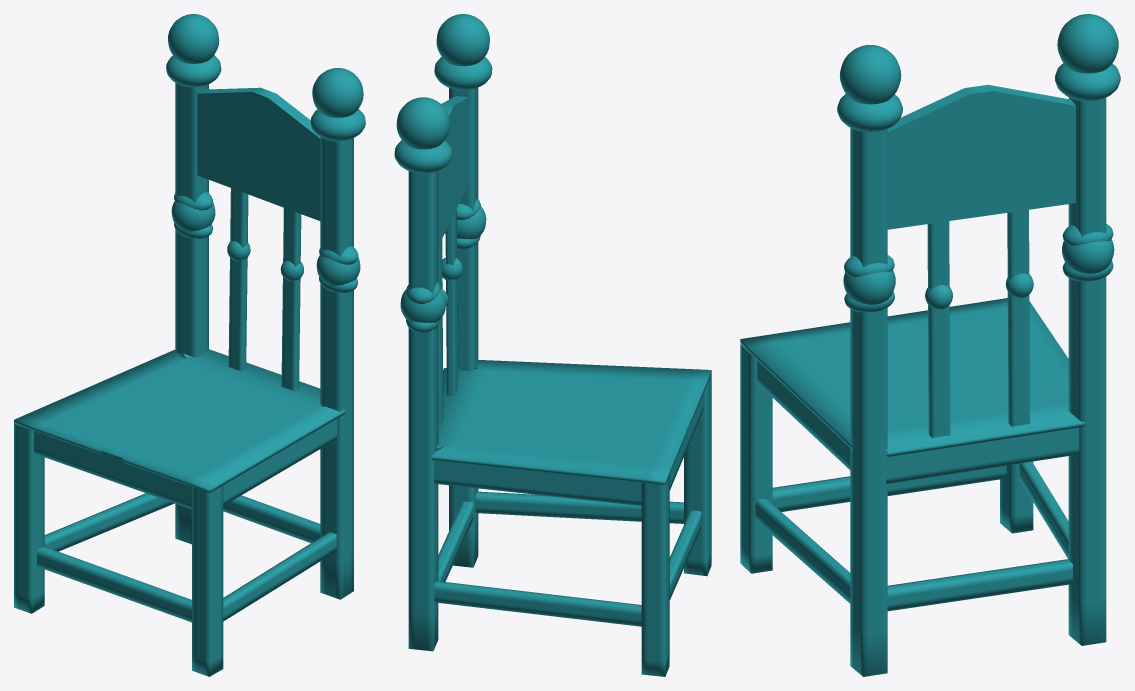
The model's file is silla2.obj.
3 renders of one model, left to right at view 1: azimuth 30°, elevation 25°; view 2: azimuth 150°, elevation 25°; view 3: azimuth 270°, elevation 25°, orthographic. The views are drawn at different scales.
Parts seen in each view (by area): view 1: polySurface927; view 2: polySurface927; view 3: polySurface927.
Part boxes in pixels (x1,y1,x2,y2): polySurface927: [14, 14, 365, 676]; polySurface927: [394, 14, 711, 676]; polySurface927: [740, 14, 1120, 676].
Bounding box in the file's own units: 2.28 × 4.01 × 2.23.
1 material, 1 textured.
